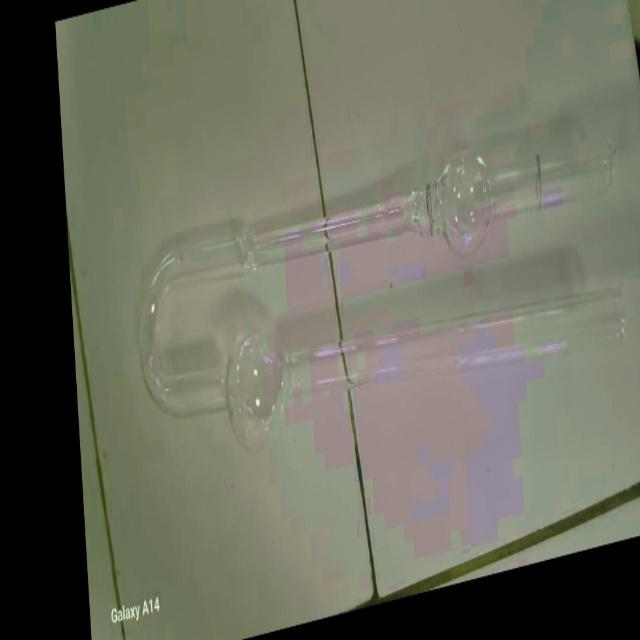Ostwald Viscometer: (127, 111, 639, 472)
